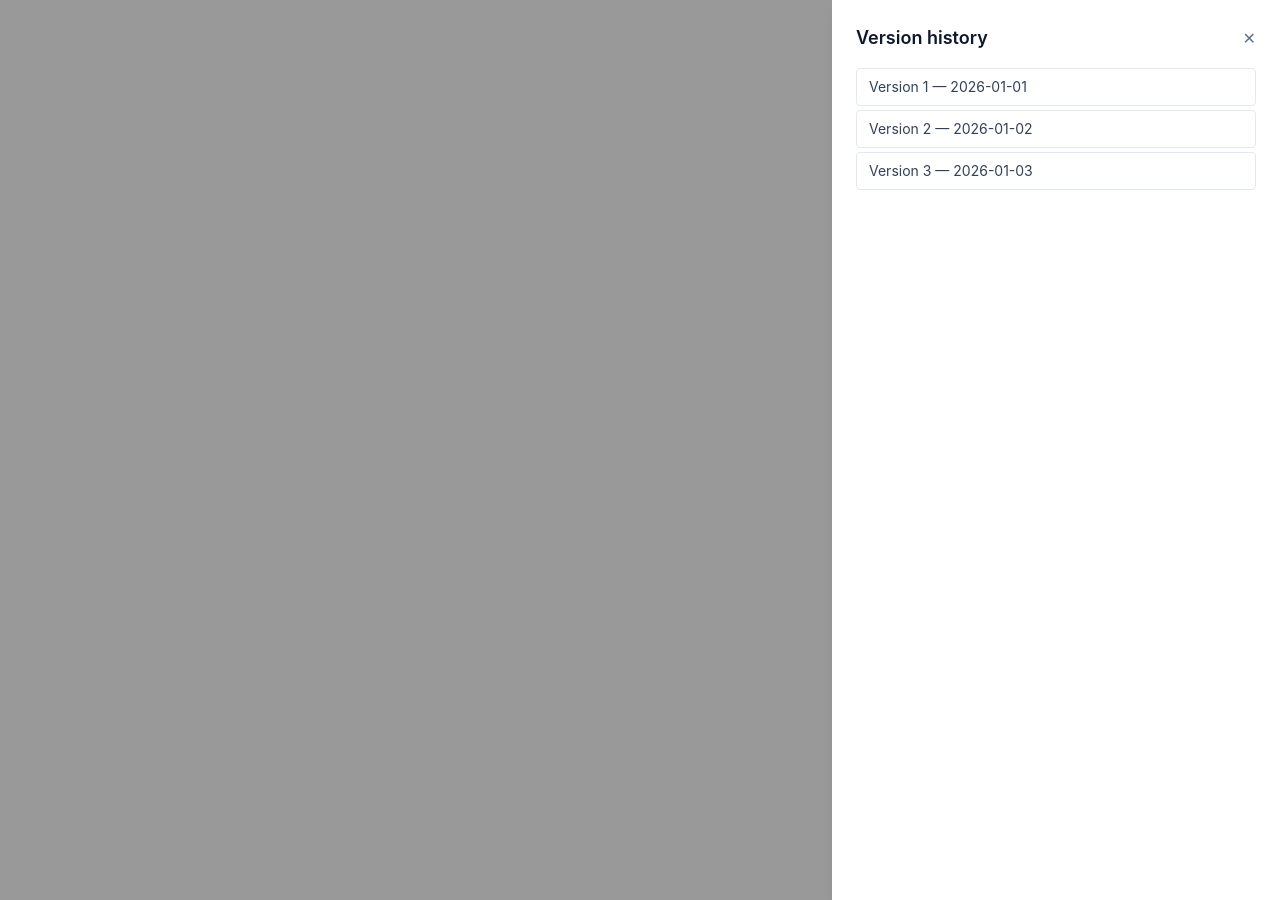
Test: VersionHistoryDrawer › User selects an available version for restoration: a restore action naming the version is available
Click the button "Version 2 — 2026-01-02".
click(896, 128)  # box [856, 110, 1256, 148]
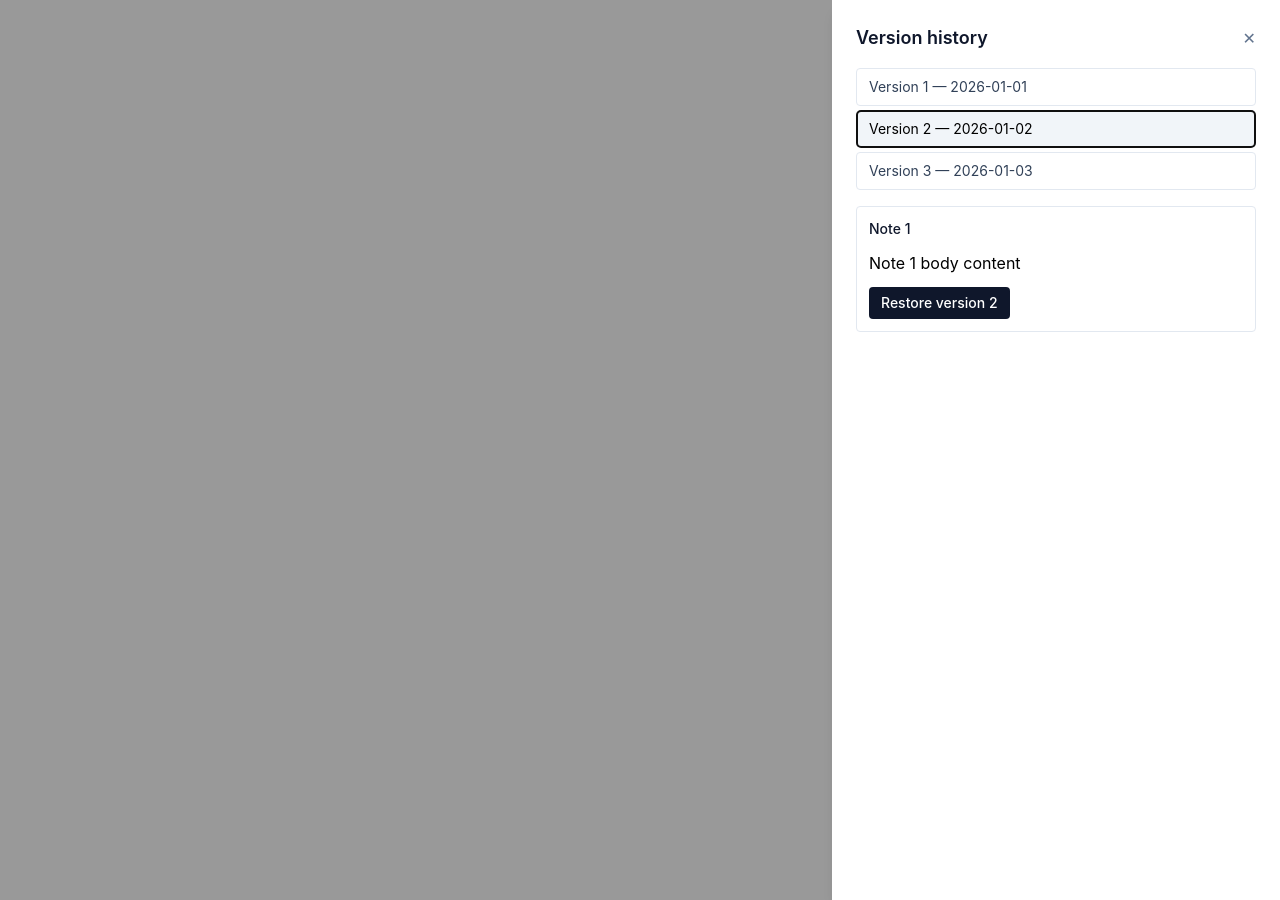
Expected: the button "Restore version 2" is shown, [869, 287, 1010, 319]
